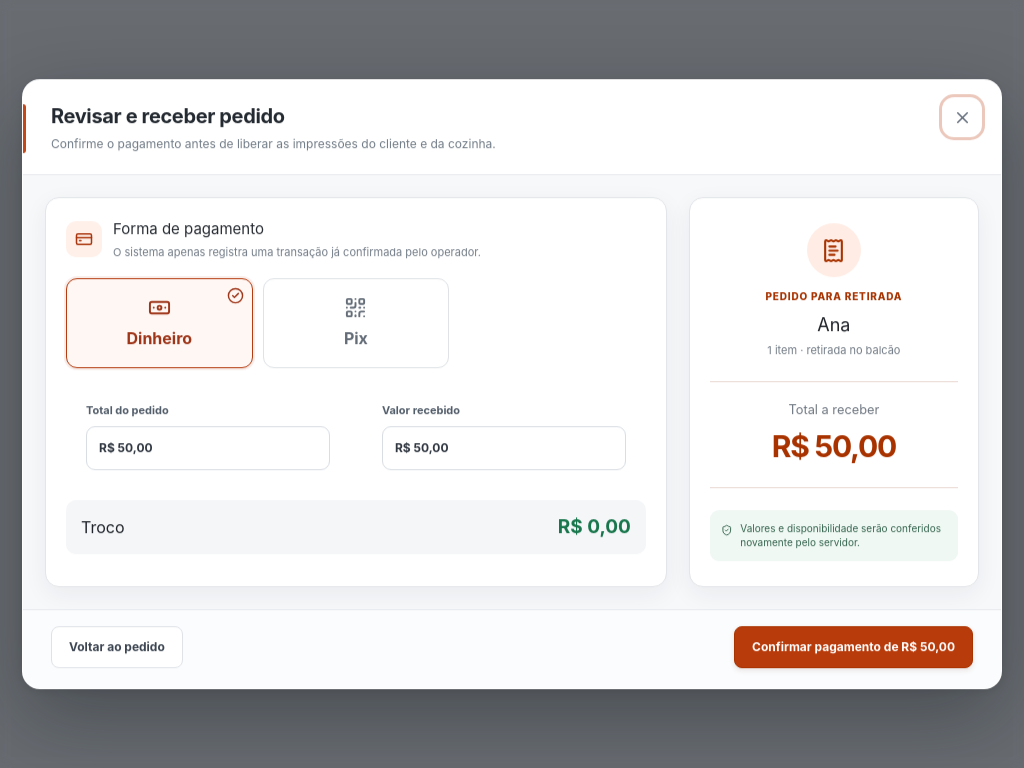
Test case: CounterCheckoutDialog › exige a referência de um pagamento confirmado externamente
Click the radio button labelled "Pix". click: (356, 323)
box: [263, 278, 449, 368]
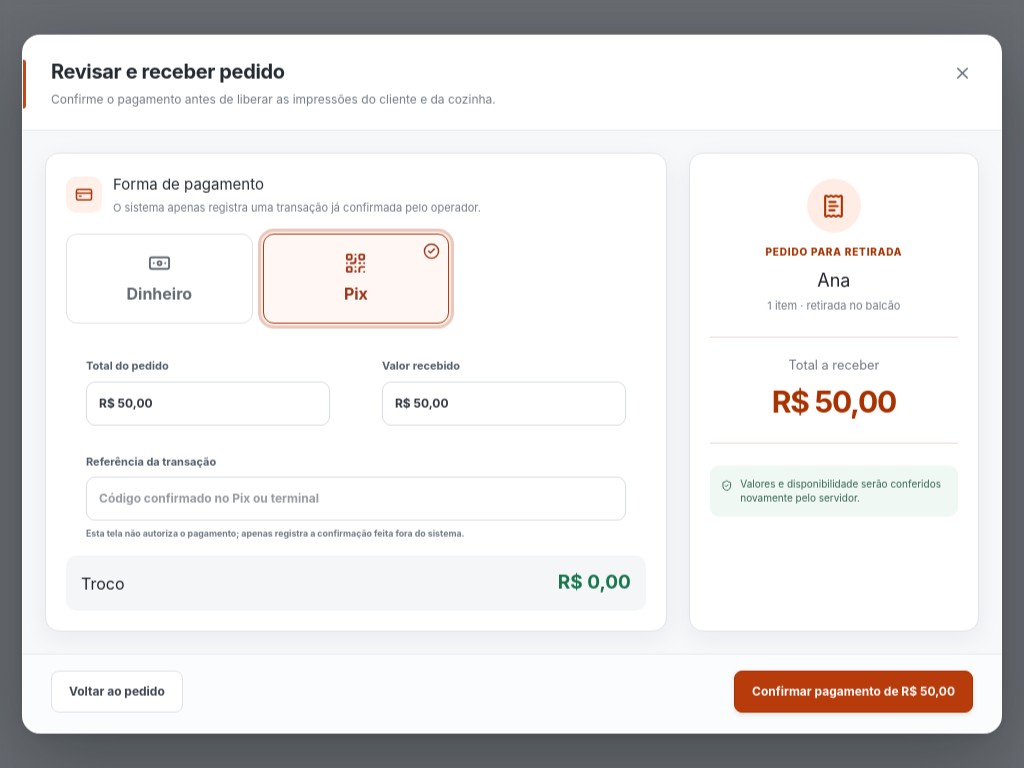
Click the button "Confirmar pagamento de R$ 50,00". click: (854, 691)
box: [734, 670, 973, 712]
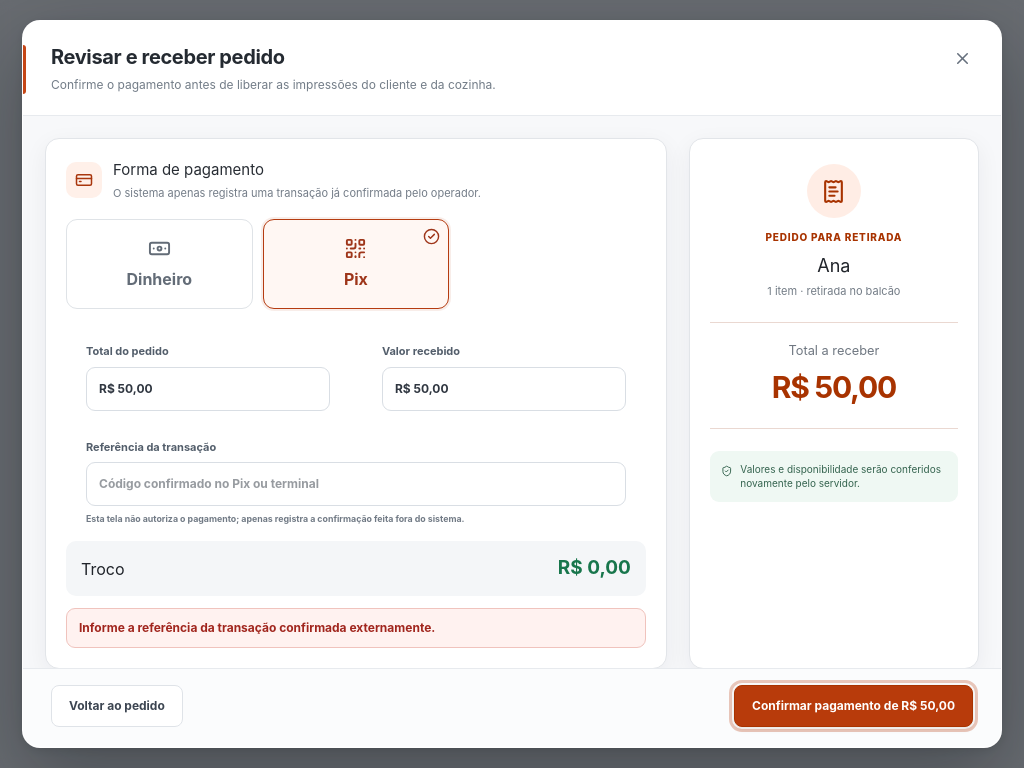
Result: the message reads "Informe a referência da transação confirmada externamente." at [79, 620, 435, 635]
